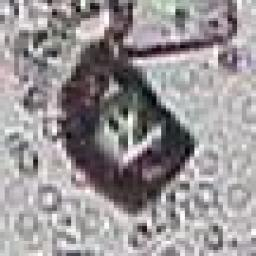crystals: (50, 46, 210, 218)
